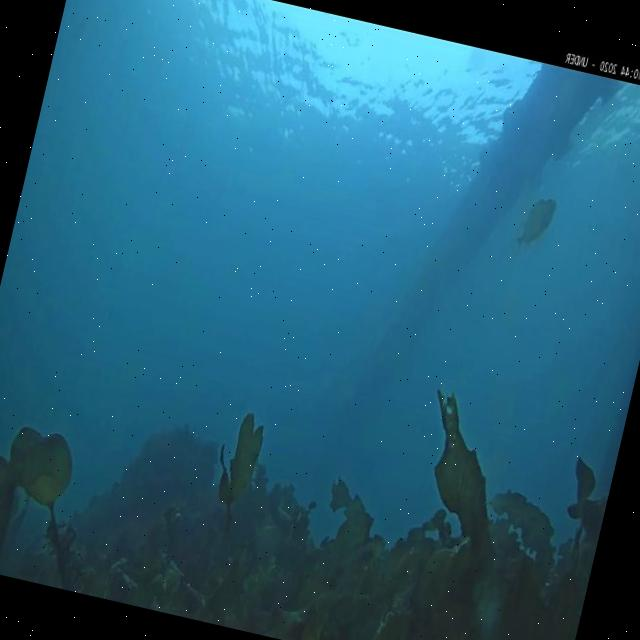fish: (510, 190, 560, 256)
